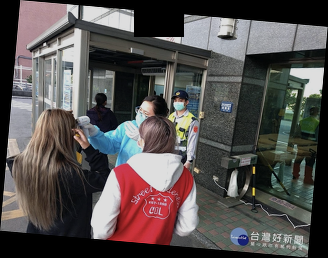with_mask: (134, 106, 153, 129), (172, 97, 186, 112)
